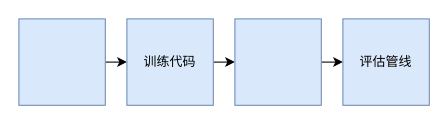
The diagram is 448 pixels wide and 124 high, and some of its shapes have lost their labels. The shapes that lost their labels are listed below. From the top down, each one's centre as x and y in pixels, then its label:
At point (61, 61): "数据集/模型 下载&预处理".
At point (277, 61): "推理代码".
